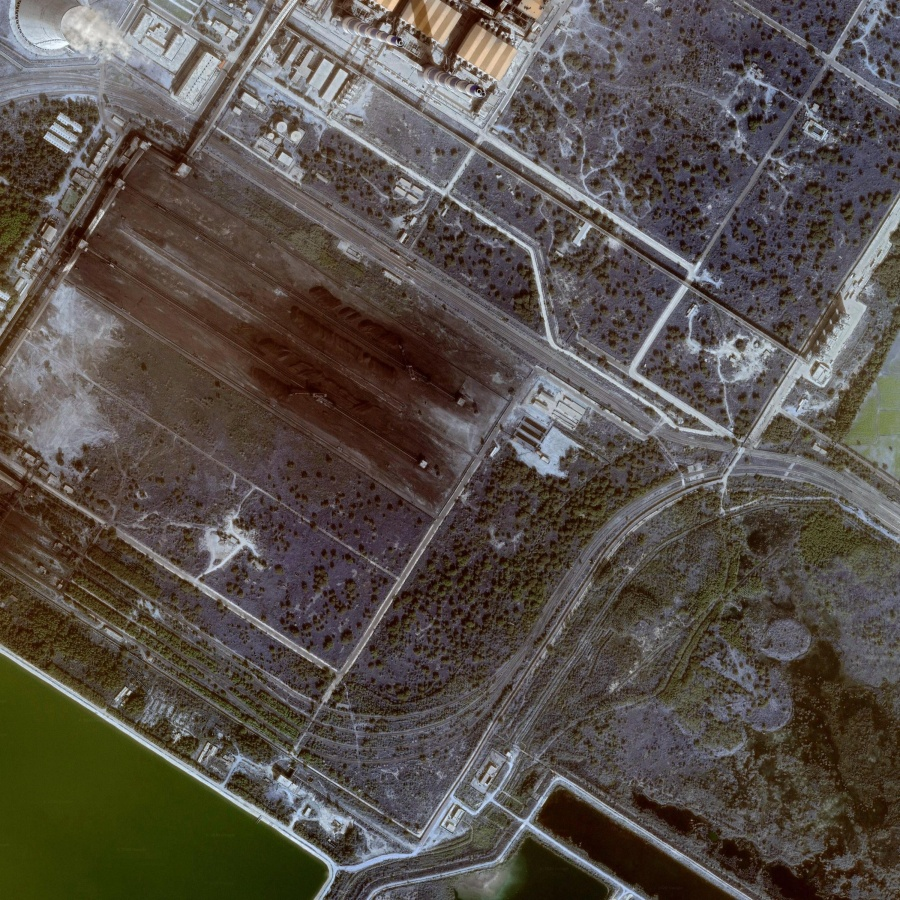PowerPlant: (50, 133, 524, 511)
